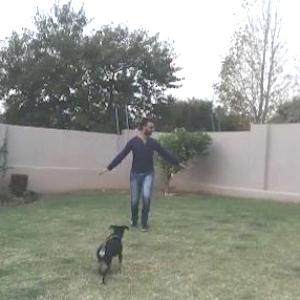land: (81, 113, 191, 235)
